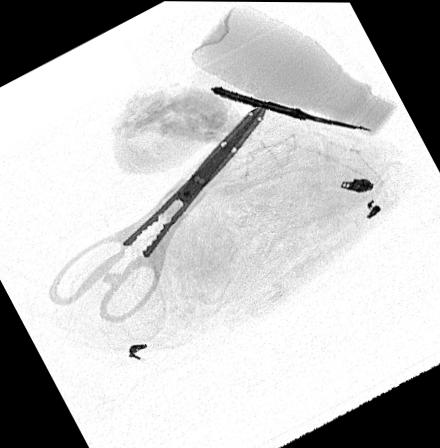Knife: (209, 88, 372, 129)
Scissors: (45, 100, 268, 324)
